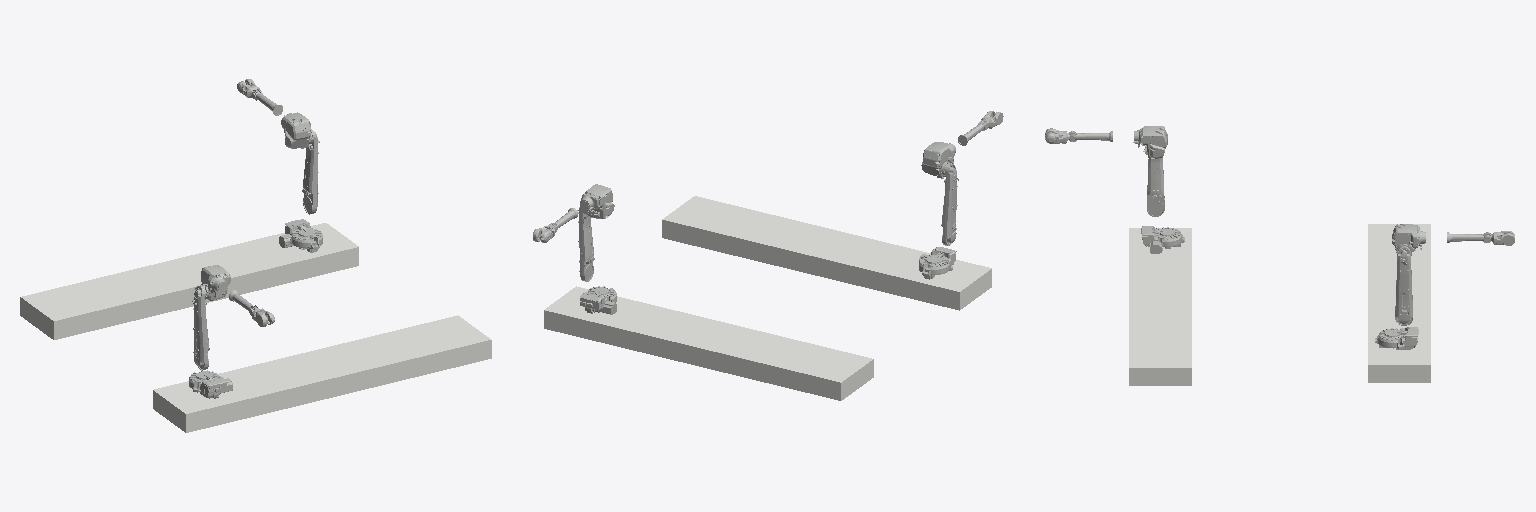
robot.urdf — princeton_cell:
<?xml version="1.0" ?>
<!-- =================================================================================== -->
<!-- |    This document was autogenerated by xacro from princeton_cell.xacro           | -->
<!-- |    EDITING THIS FILE BY HAND IS NOT RECOMMENDED                                 | -->
<!-- =================================================================================== -->
<robot name="princeton_cell">
  <link name="world"/>
  <!-- -->
  <!--ROBOT 1-->
  <joint name="r1_world_joint" type="fixed">
    <parent link="world"/>
    <child link="r1_axis"/>
    <origin rpy="0.0 0.0 3.14159" xyz="3.70 3.45 0.02"/>
  </joint>
  <!-- Conversion were obtained from http://www.e-paint.co.uk/Lab_values.asp
       unless otherwise stated. -->
  <!-- Conversion were obtained from http://www.e-paint.co.uk/Lab_values.asp
       unless otherwise stated. -->
  <!-- LINEAR AXIS -->
  <!-- linear axis link list -->
  <link name="r1_axis">
    <inertial>
      <origin xyz="0.0 0.0 0.0"/>
      <mass value="120"/>
      <inertia ixx="-4.98000" ixy="-0.00000" ixz="2.70000" iyy="-5.95200" iyz="-0.00000" izz="0.82800"/>
    </inertial>
    <visual>
      <geometry>
        <mesh filename="package://ECL_tracks/meshes/visual/axis.stl"/>
      </geometry>
      <material name="">
        <color rgba="0.9254902 0.9254902 0.9058824 1"/>
      </material>
    </visual>
    <collision>
      <geometry>
        <mesh filename="package://ECL_tracks/meshes/collision/axis.stl"/>
      </geometry>
    </collision>
  </link>
  <link name="r1_cart">
    <inertial>
      <origin xyz="0.0 0.0 0.0"/>
      <mass value="120.00000"/>
      <inertia ixx="-4.98000" ixy="-0.00000" ixz="2.70000" iyy="-5.95200" iyz="-0.00000" izz="0.82800"/>
    </inertial>
    <visual>
      <geometry>
        <mesh filename="package://ECL_tracks/meshes/visual/cart.stl"/>
      </geometry>
      <material name="">
        <color rgba="0.9254902 0.9254902 0.9058824 1"/>
      </material>
    </visual>
    <collision>
      <geometry>
        <mesh filename="package://ECL_tracks/meshes/collision/cart.stl"/>
      </geometry>
    </collision>
  </link>
  <!-- linear axis joint list -->
  <joint name="r1_cart_joint" type="prismatic">
    <parent link="r1_axis"/>
    <child link="r1_cart"/>
    <origin rpy="0 0 0 " xyz="0 0 0"/>
    <axis xyz="1 0 0"/>
    <limit effort="100000" lower="0" upper="3.9" velocity="2.618"/>
    <dynamics damping="0.2" friction="0"/>
  </joint>
  <joint name="r1_abb_joint" type="fixed">
    <parent link="r1_cart"/>
    <child link="r1_base_link"/>
    <origin rpy="0 0 1.5707963267948966 " xyz="0 0 0 "/>
    <dynamics damping="0.2" friction="0"/>
  </joint>
  <!-- ARE WE MISSING A WORLD TO AXIS fixed joint? for only the abb_on_axis group?-->
  <!-- GRIPPER -->
  <!-- gripper link list -->
  <link name="r1_gripper">
    <visual>
      <geometry>
        <mesh filename="package://abb_irb4600_40_255/meshes/visual/gripper.stl"/>
      </geometry>
    </visual>
    <collision>
      <geometry>
        <mesh filename="package://abb_irb4600_40_255/meshes/collision/gripper.stl"/>
      </geometry>
    </collision>
  </link>
  <link name="r1_tcp"/>
  <!-- gripper joint list -->
  <joint name="r1_gripper_joint" type="fixed">
    <parent link="r1_tool0"/>
    <child link="r1_gripper"/>
    <origin rpy="0 0 0" xyz="0 0 0"/>
  </joint>
  <joint name="r1_tcp_joint" type="fixed">
    <parent link="r1_gripper"/>
    <child link="r1_tcp"/>
    <origin rpy="0 0 0" xyz="0 0 0.352"/>
  </joint>
  <!-- IRB4600 -->
  <!-- irb4600 link list -->
  <link name="r1_base_link">
    <inertial>
      <origin xyz="0.0 0.0 0.0"/>
      <mass value="120.00000"/>
      <inertia ixx="-4.98000" ixy="-0.00000" ixz="2.70000" iyy="-5.95200" iyz="-0.00000" izz="0.82800"/>
    </inertial>
    <visual>
      <geometry>
        <mesh filename="package://abb_irb4600_40_255/meshes/visual/base_link.stl"/>
      </geometry>
      <material name="">
        <color rgba="0.7725490 0.7803922 0.7686275 1"/>
      </material>
    </visual>
    <collision>
      <geometry>
        <mesh filename="package://abb_irb4600_40_255/meshes/collision/base_link.stl"/>
      </geometry>
    </collision>
  </link>
  <link name="r1_link_1">
    <inertial>
      <origin xyz="0.18000 0.00000 0.50000"/>
      <mass value="120.00000"/>
      <inertia ixx="-4.98000" ixy="-0.00000" ixz="2.70000" iyy="-5.95200" iyz="-0.00000" izz="0.82800"/>
    </inertial>
    <visual>
      <geometry>
        <mesh filename="package://abb_irb4600_40_255/meshes/visual/link_1.stl"/>
      </geometry>
      <material name="">
        <color rgba="0.7725490 0.7803922 0.7686275 1"/>
      </material>
    </visual>
    <collision>
      <geometry>
        <mesh filename="package://abb_irb4600_40_255/meshes/collision/link_1.stl"/>
      </geometry>
    </collision>
  </link>
  <link name="r1_link_2">
    <inertial>
      <origin xyz="0.94000 0.08000 -0.34000"/>
      <mass value="120.00000"/>
      <inertia ixx="-2.96000" ixy="2.25600" ixz="-9.58800" iyy="-18.72601" iyz="-0.81600" izz="-14.95000"/>
    </inertial>
    <visual>
      <geometry>
        <mesh filename="package://abb_irb4600_40_255/meshes/visual/link_2.stl"/>
      </geometry>
      <material name="">
        <color rgba="0.7725490 0.7803922 0.7686275 1"/>
      </material>
    </visual>
    <collision>
      <geometry>
        <mesh filename="package://abb_irb4600_40_255/meshes/collision/link_2.stl"/>
      </geometry>
    </collision>
  </link>
  <link name="r1_link_3">
    <inertial>
      <origin xyz="0.07000 -0.26600 0.08800"/>
      <mass value="120.00000"/>
      <inertia ixx="1.34500" ixy="-0.55860" ixz="0.18480" iyy="4.65068" iyz="-0.70224" izz="2.76032"/>
    </inertial>
    <visual>
      <geometry>
        <mesh filename="package://abb_irb4600_40_255/meshes/visual/link_3.stl"/>
      </geometry>
      <material name="">
        <color rgba="0.7725490 0.7803922 0.7686275 1"/>
      </material>
    </visual>
    <collision>
      <geometry>
        <mesh filename="package://abb_irb4600_40_255/meshes/collision/link_3.stl"/>
      </geometry>
    </collision>
  </link>
  <link name="r1_link_4">
    <inertial>
      <origin xyz="0.00000 0.00000 1.00000"/>
      <mass value="40.00000"/>
      <inertia ixx="-8.00000" ixy="-0.00000" ixz="-0.00000" iyy="-8.00000" iyz="-0.00000" izz="0.48200"/>
    </inertial>
    <visual>
      <geometry>
        <mesh filename="package://abb_irb4600_40_255/meshes/visual/link_4.stl"/>
      </geometry>
      <material name="">
        <color rgba="0.7725490 0.7803922 0.7686275 1"/>
      </material>
    </visual>
    <collision>
      <geometry>
        <mesh filename="package://abb_irb4600_40_255/meshes/collision/link_4.stl"/>
      </geometry>
    </collision>
  </link>
  <link name="r1_link_5">
    <inertial>
      <origin xyz="0.14000 0.00000 0.00000"/>
      <mass value="10.00000"/>
      <inertia ixx="0.04000" ixy="-0.00000" ixz="-0.00000" iyy="-0.00900" iyz="-0.00000" izz="-0.00400"/>
    </inertial>
    <visual>
      <geometry>
        <mesh filename="package://abb_irb4600_40_255/meshes/visual/link_5.stl"/>
      </geometry>
      <material name="">
        <color rgba="0.7725490 0.7803922 0.7686275 1"/>
      </material>
    </visual>
    <collision>
      <geometry>
        <mesh filename="package://abb_irb4600_40_255/meshes/collision/link_5.stl"/>
      </geometry>
    </collision>
  </link>
  <link name="r1_link_6">
    <inertial>
      <origin xyz="0.08100 -0.09100 0.33200"/>
      <mass value="5.00000"/>
      <inertia ixx="-0.29652" ixy="-0.03686" ixz="0.09396" iyy="-0.28792" iyz="-0.10556" izz="-0.04621"/>
    </inertial>
    <visual>
      <geometry>
        <mesh filename="package://abb_irb4600_40_255/meshes/visual/link_6.stl"/>
      </geometry>
      <material name="">
        <color rgba="0.1882353 0.1960784 0.2039216 1"/>
      </material>
    </visual>
    <collision>
      <geometry>
        <mesh filename="package://abb_irb4600_40_255/meshes/collision/link_6.stl"/>
      </geometry>
    </collision>
  </link>
  <link name="r1_tool0"/>
  <!-- irb4600 joint list -->
  <joint name="r1_joint_1" type="revolute">
    <parent link="r1_base_link"/>
    <child link="r1_link_1"/>
    <origin rpy="0 0 0 " xyz="0 0 0"/>
    <axis xyz="0 0 1"/>
    <limit effort="100000" lower="-3.141592653589793" upper="-3.141592653589793" velocity="2.618"/>
    <dynamics damping="0.2" friction="0"/>
  </joint>
  <joint name="r1_joint_2" type="revolute">
    <parent link="r1_link_1"/>
    <child link="r1_link_2"/>
    <origin rpy="0 0 0 " xyz="0.175 0 0.495"/>
    <axis xyz="0 1 0"/>
    <limit effort="100000" lower="-1.3089969389957472" upper="2.6179938779914944" velocity="2.618"/>
    <dynamics damping="0.2" friction="0"/>
  </joint>
  <joint name="r1_joint_3" type="revolute">
    <parent link="r1_link_2"/>
    <child link="r1_link_3"/>
    <origin rpy="0 0 0 " xyz="0 0 1.095"/>
    <axis xyz="0 1 0"/>
    <limit effort="100000" lower="-3.141592653589793" upper="1.3089969389957472" velocity="2.618"/>
    <dynamics damping="0.2" friction="0"/>
  </joint>
  <joint name="r1_joint_4" type="revolute">
    <parent link="r1_link_3"/>
    <child link="r1_link_4"/>
    <origin rpy="0 0 0 " xyz="0.332 0 0.175"/>
    <axis xyz="1 0 0"/>
    <limit effort="10000" lower="-6.981317007977318" upper="6.981317007977318" velocity="6.2832"/>
    <dynamics damping="0.2" friction="0"/>
  </joint>
  <joint name="r1_joint_5" type="revolute">
    <parent link="r1_link_4"/>
    <child link="r1_link_5"/>
    <origin rpy="0 0 0 " xyz="0.939 0 0"/>
    <axis xyz="0 1 0"/>
    <limit effort="100000" lower="-2.181661564992912" upper="2.0943951023931953" velocity="6.2832"/>
    <dynamics damping="0.2" friction="0"/>
  </joint>
  <joint name="r1_joint_6" type="revolute">
    <parent link="r1_link_5"/>
    <child link="r1_link_6"/>
    <origin rpy="0 0 0 " xyz="0.135 0 0"/>
    <axis xyz="1 0 0"/>
    <limit effort="100000" lower="-6.981317007977318" upper="6.981317007977318" velocity="7.854"/>
    <dynamics damping="0.2" friction="0"/>
  </joint>
  <joint name="r1_joint_6-tool0" type="fixed">
    <parent link="r1_link_6"/>
    <child link="r1_tool0"/>
    <origin rpy="0 1.5707963267948966 0" xyz="0 0 0"/>
  </joint>
  <!-- -->
  <!-- IRB4600 base_link to ABB World Coordinates transform -->
  <link name="r1_base"/>
  <joint name="r1_base_link-base" type="fixed">
    <parent link="r1_base_link"/>
    <child link="r1_base"/>
    <origin rpy="0 0 0" xyz="0 0 0"/>
  </joint>
  <!-- -->
  <!--ROBOT 2-->
  <joint name="r2_world_joint" type="fixed">
    <parent link="world"/>
    <child link="r2_axis"/>
    <origin rpy="0.0 0.0 0.0" xyz="0.0 0.0 0.0"/>
  </joint>
  <!-- Conversion were obtained from http://www.e-paint.co.uk/Lab_values.asp
       unless otherwise stated. -->
  <!-- Conversion were obtained from http://www.e-paint.co.uk/Lab_values.asp
       unless otherwise stated. -->
  <!-- LINEAR AXIS -->
  <!-- linear axis link list -->
  <link name="r2_axis">
    <inertial>
      <origin xyz="0.0 0.0 0.0"/>
      <mass value="120"/>
      <inertia ixx="-4.98000" ixy="-0.00000" ixz="2.70000" iyy="-5.95200" iyz="-0.00000" izz="0.82800"/>
    </inertial>
    <visual>
      <geometry>
        <mesh filename="package://ECL_tracks/meshes/visual/axis.stl"/>
      </geometry>
      <material name="">
        <color rgba="0.9254902 0.9254902 0.9058824 1"/>
      </material>
    </visual>
    <collision>
      <geometry>
        <mesh filename="package://ECL_tracks/meshes/collision/axis.stl"/>
      </geometry>
    </collision>
  </link>
  <link name="r2_cart">
    <inertial>
      <origin xyz="0.0 0.0 0.0"/>
      <mass value="120.00000"/>
      <inertia ixx="-4.98000" ixy="-0.00000" ixz="2.70000" iyy="-5.95200" iyz="-0.00000" izz="0.82800"/>
    </inertial>
    <visual>
      <geometry>
        <mesh filename="package://ECL_tracks/meshes/visual/cart.stl"/>
      </geometry>
      <material name="">
        <color rgba="0.9254902 0.9254902 0.9058824 1"/>
      </material>
    </visual>
    <collision>
      <geometry>
        <mesh filename="package://ECL_tracks/meshes/collision/cart.stl"/>
      </geometry>
    </collision>
  </link>
  <!-- linear axis joint list -->
  <joint name="r2_cart_joint" type="prismatic">
    <parent link="r2_axis"/>
    <child link="r2_cart"/>
    <origin rpy="0 0 0 " xyz="0 0 0"/>
    <axis xyz="1 0 0"/>
    <limit effort="100000" lower="0" upper="3.9" velocity="2.618"/>
    <dynamics damping="0.2" friction="0"/>
  </joint>
  <joint name="r2_abb_joint" type="fixed">
    <parent link="r2_cart"/>
    <child link="r2_base_link"/>
    <origin rpy="0 0 1.5707963267948966 " xyz="0 0 0 "/>
    <dynamics damping="0.2" friction="0"/>
  </joint>
  <!-- ARE WE MISSING A WORLD TO AXIS fixed joint? for only the abb_on_axis group?-->
  <!-- GRIPPER -->
  <!-- gripper link list -->
  <link name="r2_gripper">
    <visual>
      <geometry>
        <mesh filename="package://abb_irb4600_40_255/meshes/visual/gripper.stl"/>
      </geometry>
    </visual>
    <collision>
      <geometry>
        <mesh filename="package://abb_irb4600_40_255/meshes/collision/gripper.stl"/>
      </geometry>
    </collision>
  </link>
  <link name="r2_tcp"/>
  <!-- gripper joint list -->
  <joint name="r2_gripper_joint" type="fixed">
    <parent link="r2_tool0"/>
    <child link="r2_gripper"/>
    <origin rpy="0 0 0" xyz="0 0 0"/>
  </joint>
  <joint name="r2_tcp_joint" type="fixed">
    <parent link="r2_gripper"/>
    <child link="r2_tcp"/>
    <origin rpy="0 0 0" xyz="0 0 0.352"/>
  </joint>
  <!-- IRB4600 -->
  <!-- irb4600 link list -->
  <link name="r2_base_link">
    <inertial>
      <origin xyz="0.0 0.0 0.0"/>
      <mass value="120.00000"/>
      <inertia ixx="-4.98000" ixy="-0.00000" ixz="2.70000" iyy="-5.95200" iyz="-0.00000" izz="0.82800"/>
    </inertial>
    <visual>
      <geometry>
        <mesh filename="package://abb_irb4600_40_255/meshes/visual/base_link.stl"/>
      </geometry>
      <material name="">
        <color rgba="0.7725490 0.7803922 0.7686275 1"/>
      </material>
    </visual>
    <collision>
      <geometry>
        <mesh filename="package://abb_irb4600_40_255/meshes/collision/base_link.stl"/>
      </geometry>
    </collision>
  </link>
  <link name="r2_link_1">
    <inertial>
      <origin xyz="0.18000 0.00000 0.50000"/>
      <mass value="120.00000"/>
      <inertia ixx="-4.98000" ixy="-0.00000" ixz="2.70000" iyy="-5.95200" iyz="-0.00000" izz="0.82800"/>
    </inertial>
    <visual>
      <geometry>
        <mesh filename="package://abb_irb4600_40_255/meshes/visual/link_1.stl"/>
      </geometry>
      <material name="">
        <color rgba="0.7725490 0.7803922 0.7686275 1"/>
      </material>
    </visual>
    <collision>
      <geometry>
        <mesh filename="package://abb_irb4600_40_255/meshes/collision/link_1.stl"/>
      </geometry>
    </collision>
  </link>
  <link name="r2_link_2">
    <inertial>
      <origin xyz="0.94000 0.08000 -0.34000"/>
      <mass value="120.00000"/>
      <inertia ixx="-2.96000" ixy="2.25600" ixz="-9.58800" iyy="-18.72601" iyz="-0.81600" izz="-14.95000"/>
    </inertial>
    <visual>
      <geometry>
        <mesh filename="package://abb_irb4600_40_255/meshes/visual/link_2.stl"/>
      </geometry>
      <material name="">
        <color rgba="0.7725490 0.7803922 0.7686275 1"/>
      </material>
    </visual>
    <collision>
      <geometry>
        <mesh filename="package://abb_irb4600_40_255/meshes/collision/link_2.stl"/>
      </geometry>
    </collision>
  </link>
  <link name="r2_link_3">
    <inertial>
      <origin xyz="0.07000 -0.26600 0.08800"/>
      <mass value="120.00000"/>
      <inertia ixx="1.34500" ixy="-0.55860" ixz="0.18480" iyy="4.65068" iyz="-0.70224" izz="2.76032"/>
    </inertial>
    <visual>
      <geometry>
        <mesh filename="package://abb_irb4600_40_255/meshes/visual/link_3.stl"/>
      </geometry>
      <material name="">
        <color rgba="0.7725490 0.7803922 0.7686275 1"/>
      </material>
    </visual>
    <collision>
      <geometry>
        <mesh filename="package://abb_irb4600_40_255/meshes/collision/link_3.stl"/>
      </geometry>
    </collision>
  </link>
  <link name="r2_link_4">
    <inertial>
      <origin xyz="0.00000 0.00000 1.00000"/>
      <mass value="40.00000"/>
      <inertia ixx="-8.00000" ixy="-0.00000" ixz="-0.00000" iyy="-8.00000" iyz="-0.00000" izz="0.48200"/>
    </inertial>
    <visual>
      <geometry>
        <mesh filename="package://abb_irb4600_40_255/meshes/visual/link_4.stl"/>
      </geometry>
      <material name="">
        <color rgba="0.7725490 0.7803922 0.7686275 1"/>
      </material>
    </visual>
    <collision>
      <geometry>
        <mesh filename="package://abb_irb4600_40_255/meshes/collision/link_4.stl"/>
      </geometry>
    </collision>
  </link>
  <link name="r2_link_5">
    <inertial>
      <origin xyz="0.14000 0.00000 0.00000"/>
      <mass value="10.00000"/>
      <inertia ixx="0.04000" ixy="-0.00000" ixz="-0.00000" iyy="-0.00900" iyz="-0.00000" izz="-0.00400"/>
    </inertial>
    <visual>
      <geometry>
        <mesh filename="package://abb_irb4600_40_255/meshes/visual/link_5.stl"/>
      </geometry>
      <material name="">
        <color rgba="0.7725490 0.7803922 0.7686275 1"/>
      </material>
    </visual>
    <collision>
      <geometry>
        <mesh filename="package://abb_irb4600_40_255/meshes/collision/link_5.stl"/>
      </geometry>
    </collision>
  </link>
  <link name="r2_link_6">
    <inertial>
      <origin xyz="0.08100 -0.09100 0.33200"/>
      <mass value="5.00000"/>
      <inertia ixx="-0.29652" ixy="-0.03686" ixz="0.09396" iyy="-0.28792" iyz="-0.10556" izz="-0.04621"/>
    </inertial>
    <visual>
      <geometry>
        <mesh filename="package://abb_irb4600_40_255/meshes/visual/link_6.stl"/>
      </geometry>
      <material name="">
        <color rgba="0.1882353 0.1960784 0.2039216 1"/>
      </material>
    </visual>
    <collision>
      <geometry>
        <mesh filename="package://abb_irb4600_40_255/meshes/collision/link_6.stl"/>
      </geometry>
    </collision>
  </link>
  <link name="r2_tool0"/>
  <!-- irb4600 joint list -->
  <joint name="r2_joint_1" type="revolute">
    <parent link="r2_base_link"/>
    <child link="r2_link_1"/>
    <origin rpy="0 0 0 " xyz="0 0 0"/>
    <axis xyz="0 0 1"/>
    <limit effort="100000" lower="-3.141592653589793" upper="-3.141592653589793" velocity="2.618"/>
    <dynamics damping="0.2" friction="0"/>
  </joint>
  <joint name="r2_joint_2" type="revolute">
    <parent link="r2_link_1"/>
    <child link="r2_link_2"/>
    <origin rpy="0 0 0 " xyz="0.175 0 0.495"/>
    <axis xyz="0 1 0"/>
    <limit effort="100000" lower="-1.3089969389957472" upper="2.6179938779914944" velocity="2.618"/>
    <dynamics damping="0.2" friction="0"/>
  </joint>
  <joint name="r2_joint_3" type="revolute">
    <parent link="r2_link_2"/>
    <child link="r2_link_3"/>
    <origin rpy="0 0 0 " xyz="0 0 1.095"/>
    <axis xyz="0 1 0"/>
    <limit effort="100000" lower="-3.141592653589793" upper="1.3089969389957472" velocity="2.618"/>
    <dynamics damping="0.2" friction="0"/>
  </joint>
  <joint name="r2_joint_4" type="revolute">
    <parent link="r2_link_3"/>
    <child link="r2_link_4"/>
    <origin rpy="0 0 0 " xyz="0.332 0 0.175"/>
    <axis xyz="1 0 0"/>
    <limit effort="10000" lower="-6.981317007977318" upper="6.981317007977318" velocity="6.2832"/>
    <dynamics damping="0.2" friction="0"/>
  </joint>
  <joint name="r2_joint_5" type="revolute">
    <parent link="r2_link_4"/>
    <child link="r2_link_5"/>
    <origin rpy="0 0 0 " xyz="0.939 0 0"/>
    <axis xyz="0 1 0"/>
    <limit effort="100000" lower="-2.181661564992912" upper="2.0943951023931953" velocity="6.2832"/>
    <dynamics damping="0.2" friction="0"/>
  </joint>
  <joint name="r2_joint_6" type="revolute">
    <parent link="r2_link_5"/>
    <child link="r2_link_6"/>
    <origin rpy="0 0 0 " xyz="0.135 0 0"/>
    <axis xyz="1 0 0"/>
    <limit effort="100000" lower="-6.981317007977318" upper="6.981317007977318" velocity="7.854"/>
    <dynamics damping="0.2" friction="0"/>
  </joint>
  <joint name="r2_joint_6-tool0" type="fixed">
    <parent link="r2_link_6"/>
    <child link="r2_tool0"/>
    <origin rpy="0 1.5707963267948966 0" xyz="0 0 0"/>
  </joint>
  <!-- -->
  <!-- IRB4600 base_link to ABB World Coordinates transform -->
  <link name="r2_base"/>
  <joint name="r2_base_link-base" type="fixed">
    <parent link="r2_base_link"/>
    <child link="r2_base"/>
    <origin rpy="0 0 0" xyz="0 0 0"/>
  </joint>
</robot>

--- Facts derived from the render (not from the file) ---
The picture shows the robot from 3 angles, left to right: view 1: azimuth 30°, elevation 25°; view 2: azimuth 150°, elevation 25°; view 3: azimuth 270°, elevation 25°; orthographic projection.
Robot: princeton_cell — 27 links, 26 joints (12 revolute, 2 prismatic, 12 fixed); root link world; default pose: joints at zero except 2 at the middle of their limits (r1_joint_1 = -3.14, r2_joint_1 = -3.14).
Links seen in each view (by area): view 1: r2_axis, r1_axis, r2_link_2, r1_link_2, r1_link_3, r2_link_3, r1_base_link, r2_base_link; view 2: r2_axis, r1_axis, r2_link_2, r1_link_3, r1_link_2, r2_link_3, r2_base_link, r1_base_link; view 3: r2_axis, r1_axis, r1_link_2, r2_link_2, r2_link_3, r1_link_3, r1_base_link, r2_base_link, r2_link_4, r1_link_4.
Link boxes in pixels (box(x1,y1,x2,y2)): r2_axis: box(153, 315, 491, 432); r1_axis: box(20, 223, 358, 339); r2_link_2: box(192, 285, 209, 370); r1_link_2: box(302, 129, 319, 214); r1_link_3: box(281, 112, 312, 148); r2_link_3: box(201, 265, 230, 300); r1_base_link: box(285, 219, 322, 249); r2_base_link: box(189, 370, 227, 394); r2_axis: box(662, 196, 991, 310); r1_axis: box(544, 286, 873, 400); r2_link_2: box(941, 163, 958, 245); r1_link_3: box(580, 184, 614, 218); r1_link_2: box(577, 207, 594, 281); r2_link_3: box(921, 142, 955, 178); r2_base_link: box(919, 247, 956, 275); r1_base_link: box(580, 286, 616, 309); r2_axis: box(1129, 228, 1191, 385); r1_axis: box(1368, 224, 1430, 382); r1_link_2: box(1395, 246, 1412, 325); r2_link_2: box(1147, 158, 1164, 216); r2_link_3: box(1133, 126, 1167, 158); r1_link_3: box(1392, 224, 1426, 255); r1_base_link: box(1375, 327, 1418, 348); r2_base_link: box(1141, 226, 1184, 246); r2_link_4: box(1045, 128, 1112, 143); r1_link_4: box(1447, 231, 1514, 245).
Bounding box of the posed robot: 5.18 × 7.21 × 2.32 m (x, y, z).
16 mesh visuals loaded from 10 distinct referenced files (8 binary STL); not drawn: 4 (reference not matched to a file when rendering).